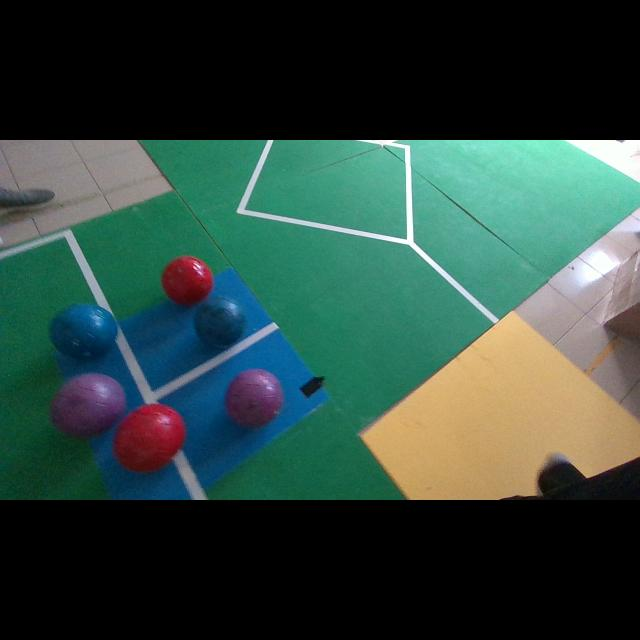B: (50, 304, 118, 359), (195, 296, 246, 348)
P: (50, 374, 126, 438), (225, 369, 284, 429)
R: (114, 404, 186, 471), (161, 255, 214, 305)
